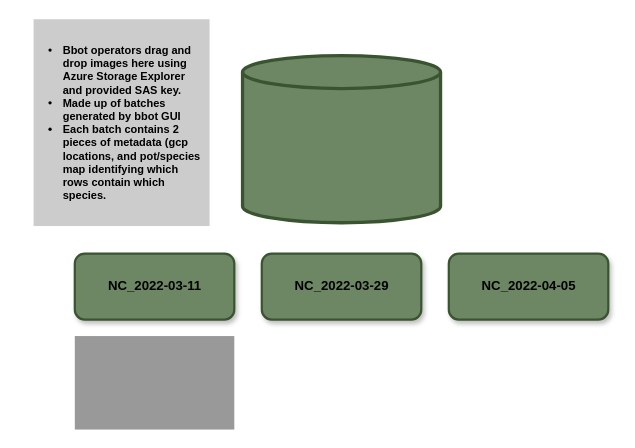
Image size: 635x448. Some labels were removed from this diagram. The shapes that lost their labels are listed below. From the top down, each one's centre as x and y in pixels, then its label:
pixel 341 138: Uploaded
pixel 154 382: GroundControlPoints.csv Potmap.csv NC_1_1_1648579005000.0_0.ARW ...
